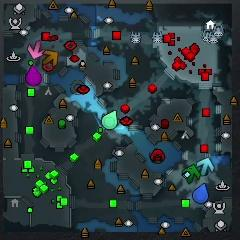p1: (192, 183, 209, 204)
p2: (102, 110, 119, 131)
p3: (25, 66, 41, 86)
x1: (26, 40, 45, 59)
x3: (197, 156, 215, 176)
x4: (182, 164, 200, 184)
x5: (43, 50, 60, 66)
